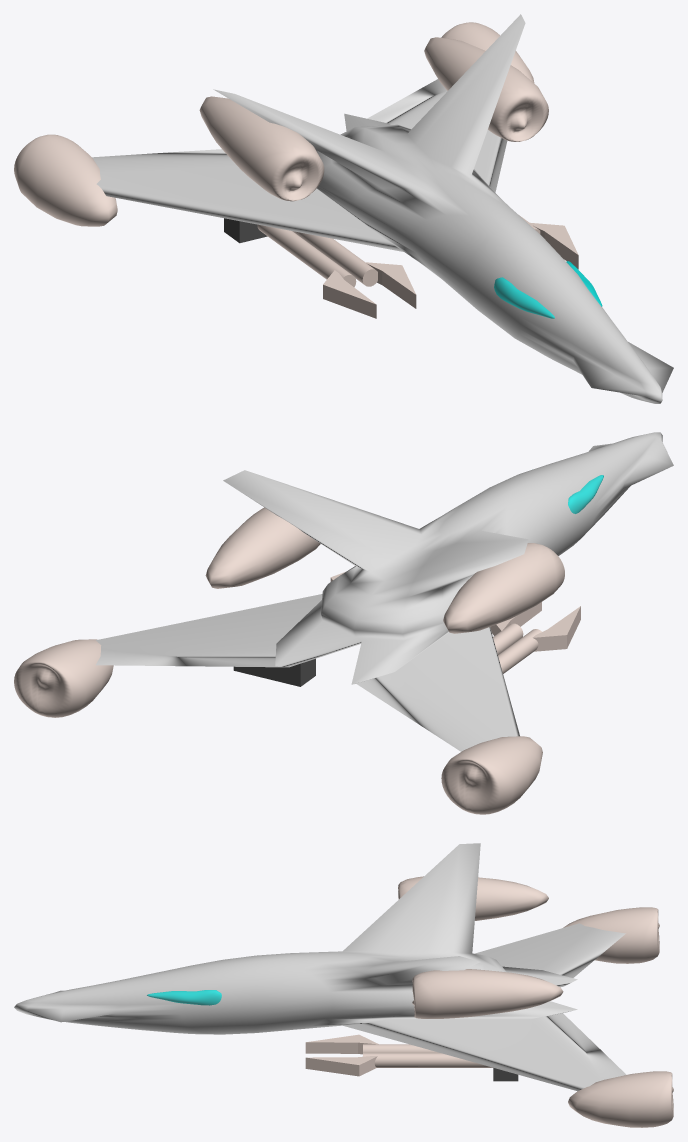
Rendered from Boss01.fbx.
3 renders of one model, top to bottom at view 1: azimuth 30°, elevation 25°; view 2: azimuth 150°, elevation 25°; view 3: azimuth 270°, elevation 25°, orthographic. The views are drawn at different scales.
Visible parts, largest first — view 1: pSphere1, pSphere3, pSphere6, pSphere2, pCylinder3, pCylinder4, pCube1, pSphere5, pCube3, pSphere8, pCube4, pCube6; view 2: pSphere1, pSphere3, pSphere6, pSphere5, pSphere2, pCube5, pCube1, pCylinder3, pSphere8; view 3: pSphere1, pSphere2, pSphere5, pSphere6, pSphere3, pCylinder5, pCube4, pCube2, pSphere9, pCylinder1.
Part boxes in pixels (x1,y1,x2,y2): pSphere1: (92,14,673,403); pSphere3: (199,96,324,201); pSphere6: (14,134,117,226); pSphere2: (424,37,548,141); pCylinder3: (257,224,356,287); pCylinder4: (292,231,377,286); pCube1: (323,270,376,318); pSphere5: (441,22,534,82); pCube3: (365,262,416,308); pSphere8: (494,277,554,318); pCube4: (529,222,578,269); pCube6: (224,218,267,243); pSphere1: (96,432,673,751); pSphere3: (443,543,564,633); pSphere6: (441,736,542,814); pSphere5: (14,639,113,717); pSphere2: (205,507,320,588); pCube5: (233,658,315,686); pCube1: (532,606,580,651); pCylinder3: (498,629,541,673); pSphere8: (568,475,603,513); pSphere1: (14,843,626,1091); pSphere2: (412,969,563,1018); pSphere5: (568,1071,673,1127); pSphere6: (563,907,659,963); pSphere3: (398,876,548,920); pCylinder5: (363,1053,492,1067); pCube4: (305,1056,377,1076); pCube2: (305,1034,378,1054); pSphere9: (147,990,221,1005); pCylinder1: (363,1044,439,1052).
Size of the model in its own units: 182 by 62.77 by 265.
